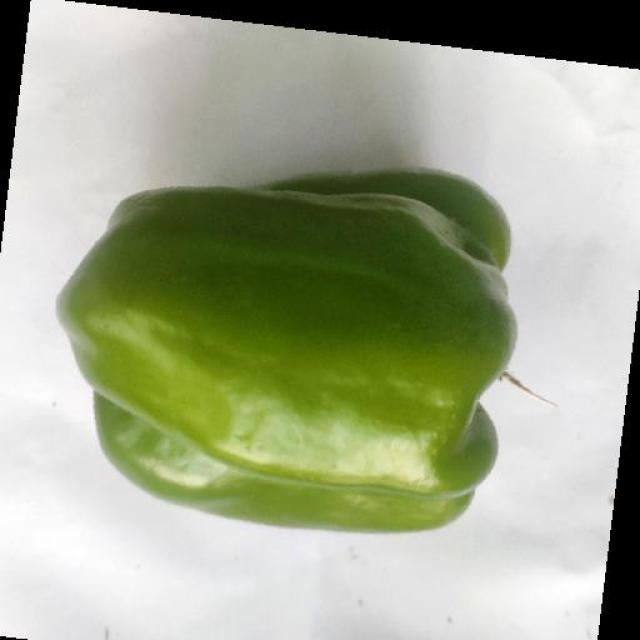Fresh_Capsicum: (49, 172, 510, 532)
